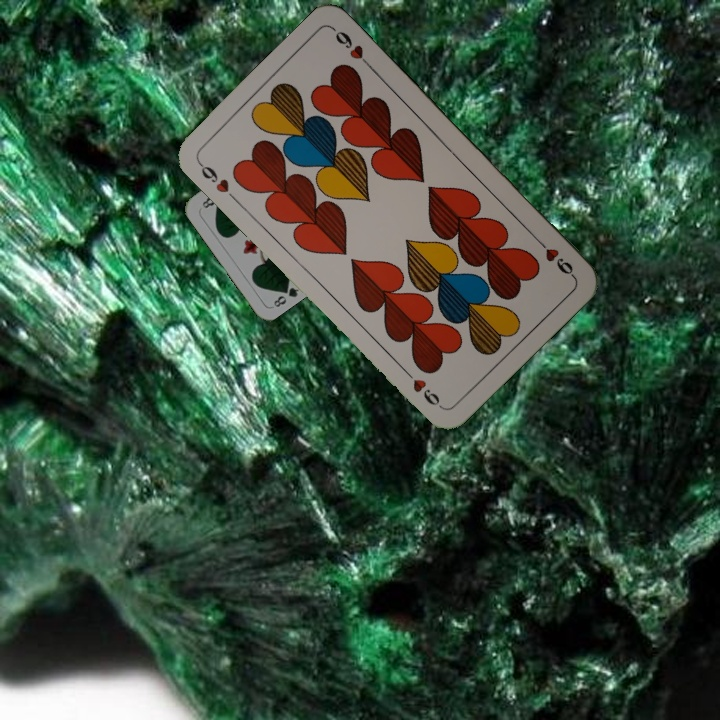G8: (269, 280, 301, 310)
H9: (531, 233, 577, 280), (194, 158, 232, 196)
